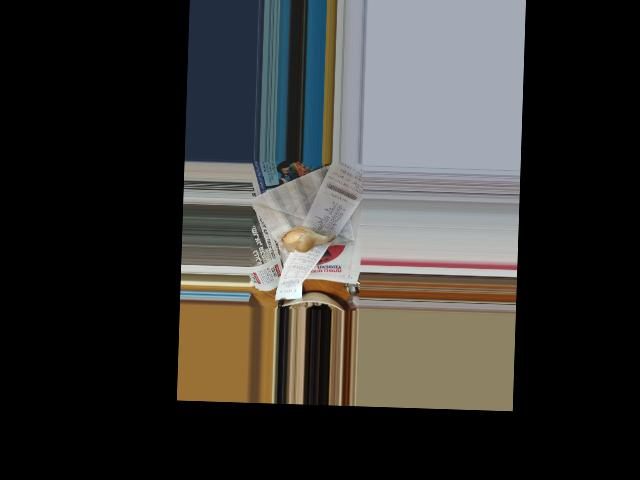onion: (281, 225, 320, 251)
